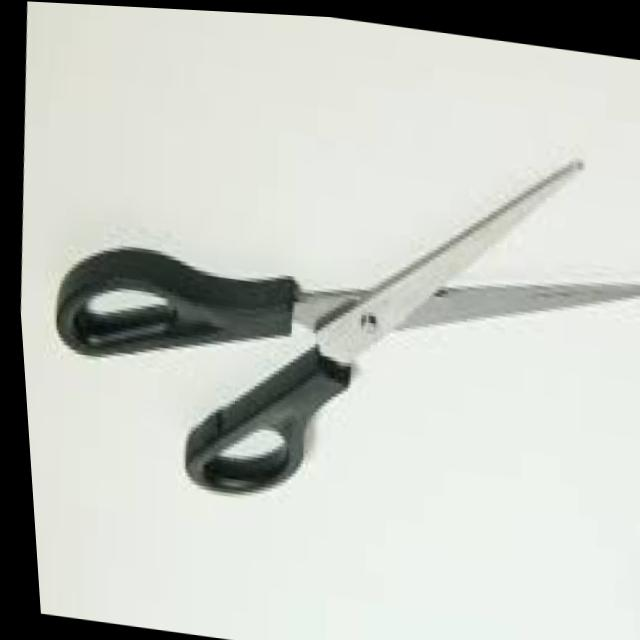scissor: (25, 85, 640, 548)
